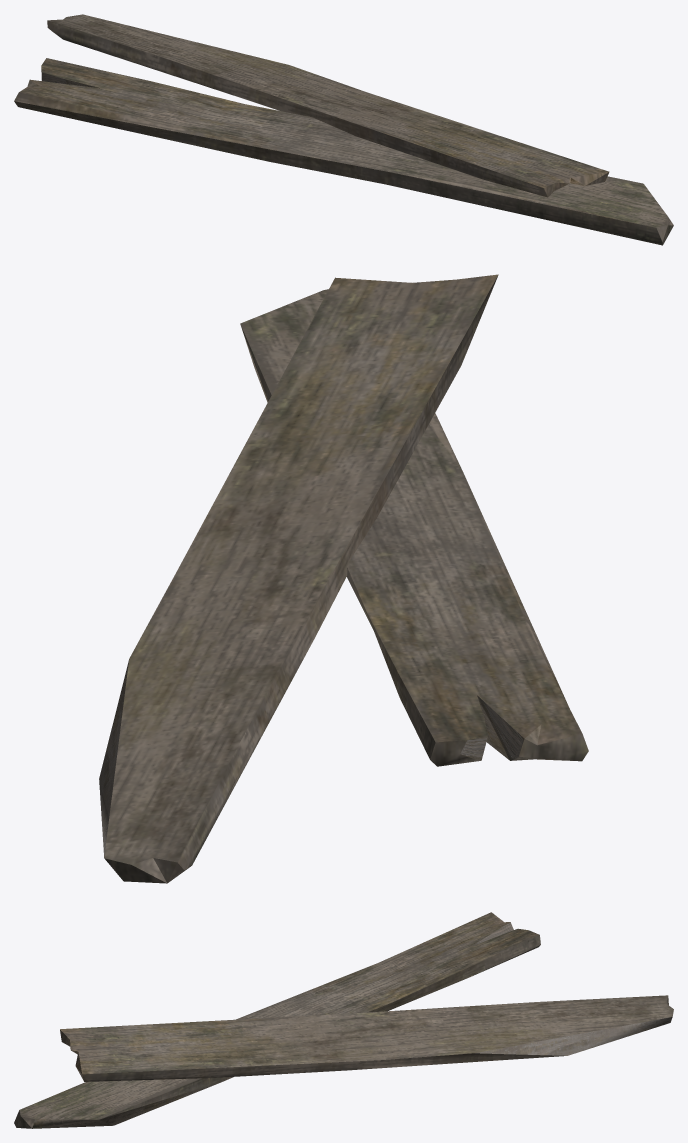
Rendered from SM_Wood_Planks_4.fbx.
The picture shows the model from 3 angles, top to bottom: view 1: azimuth 30°, elevation 25°; view 2: azimuth 150°, elevation 25°; view 3: azimuth 270°, elevation 25°; orthographic projection. The views are drawn at different scales.
Parts seen in each view (by area): view 1: SM_Wood_Planks_4_LOD0; view 2: SM_Wood_Planks_4_LOD0; view 3: SM_Wood_Planks_4_LOD0.
Boxes of the visible parts, x1,y1,x2,y2 form: SM_Wood_Planks_4_LOD0: [14, 14, 673, 245]; SM_Wood_Planks_4_LOD0: [99, 274, 588, 883]; SM_Wood_Planks_4_LOD0: [14, 912, 673, 1128].
Bounding box in the file's own units: 121 × 187 × 17.75.
